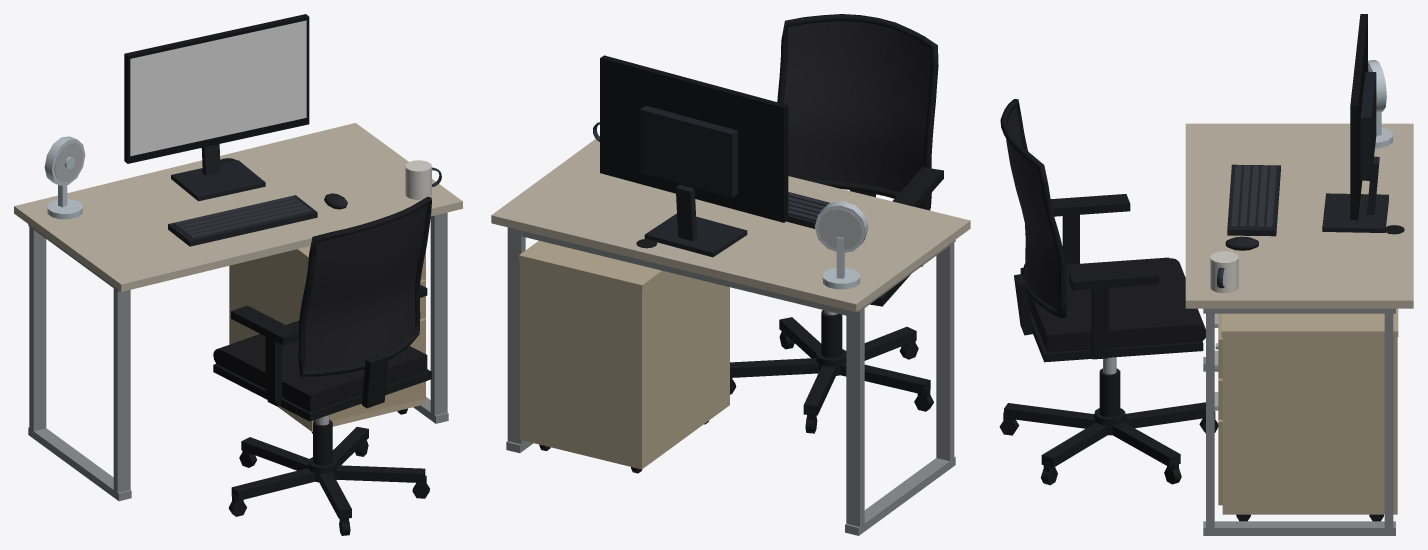
The model's file is furn_desk_design.glb.
3 renders of one model, left to right at view 1: azimuth 30°, elevation 25°; view 2: azimuth 150°, elevation 25°; view 3: azimuth 270°, elevation 25°, orthographic. The views are drawn at different scales.
Parts seen in each view (by area): view 1: furn.desk_design; view 2: furn.desk_design; view 3: furn.desk_design.
Boxes of the visible parts, left/top/right/bottom form: furn.desk_design: left=14, top=14, right=462, bottom=535; furn.desk_design: left=491, top=14, right=970, bottom=535; furn.desk_design: left=999, top=14, right=1413, bottom=535.
Size of the model in its own units: 1.2 by 1.24 by 1.18.
